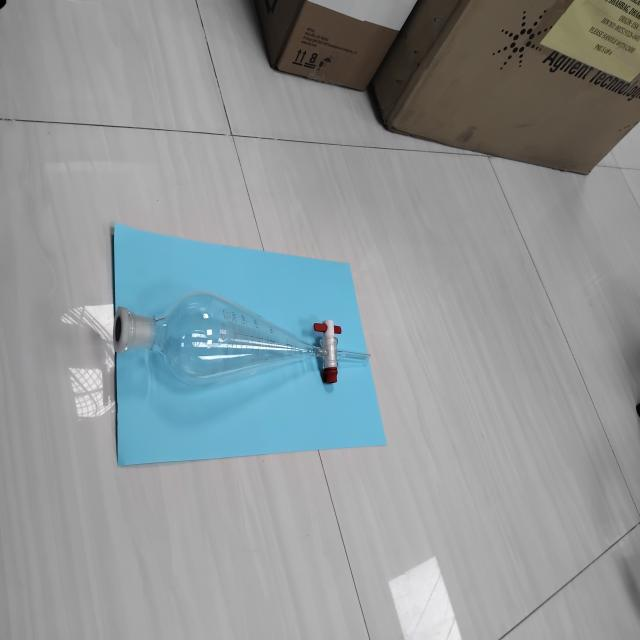Separating_Funnel: (83, 263, 387, 444)
